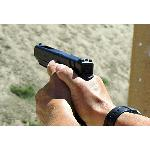Pistol: (32, 41, 94, 89)
